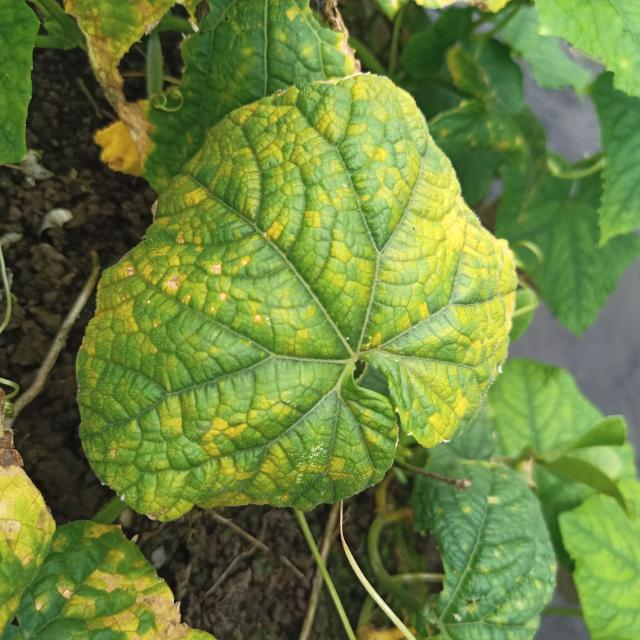disease_cucumber: (91, 80, 513, 504)
